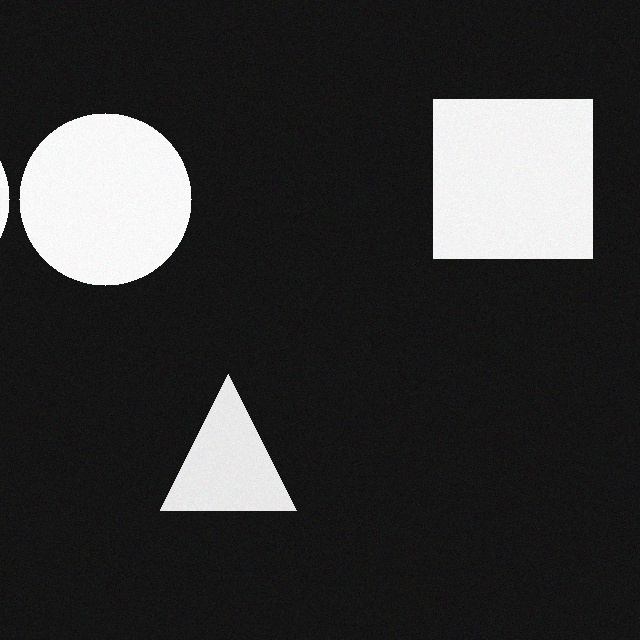circle: (5, 103, 177, 275)
square: (419, 89, 578, 248)
triangle: (146, 364, 282, 500)
